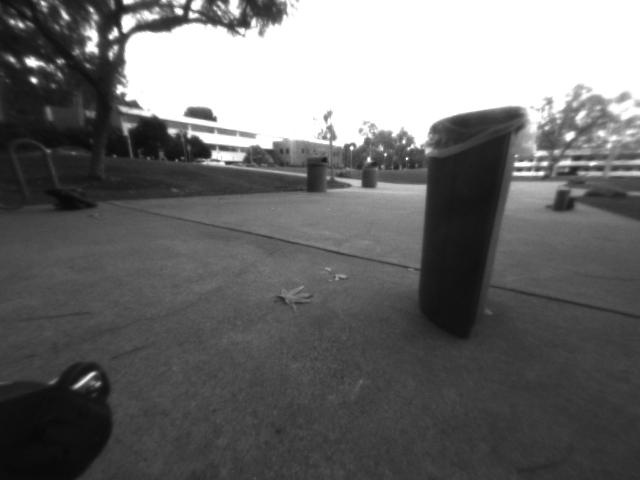trashcan_open: (413, 100, 544, 347)
